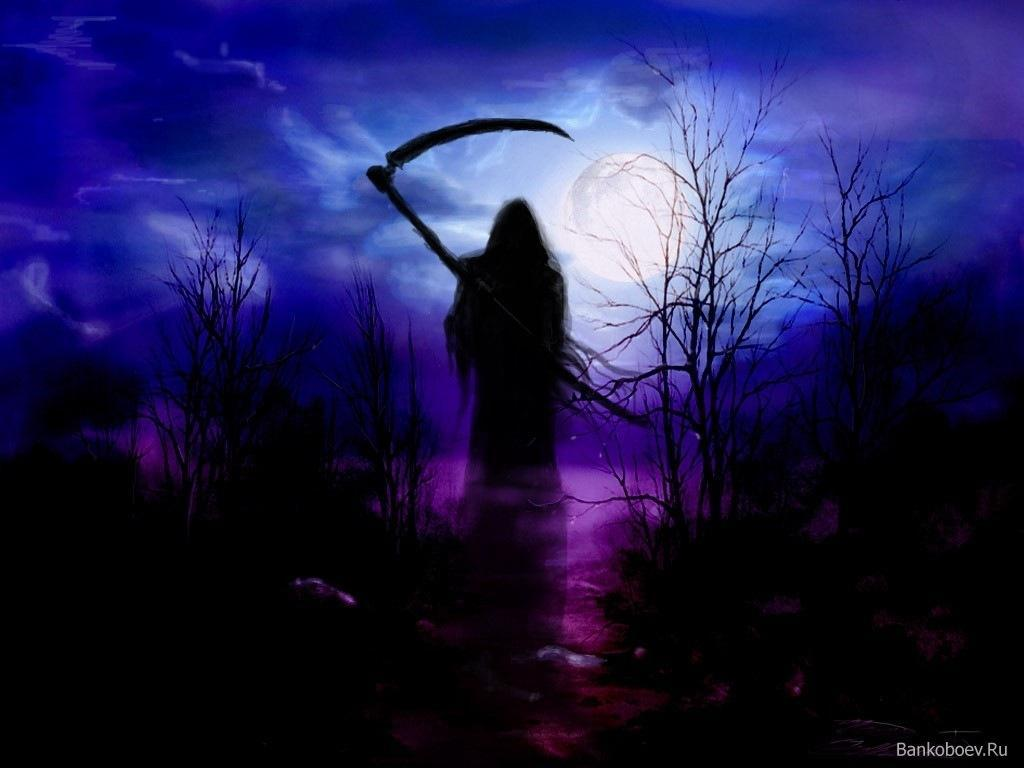foice: (367, 118, 573, 294)
